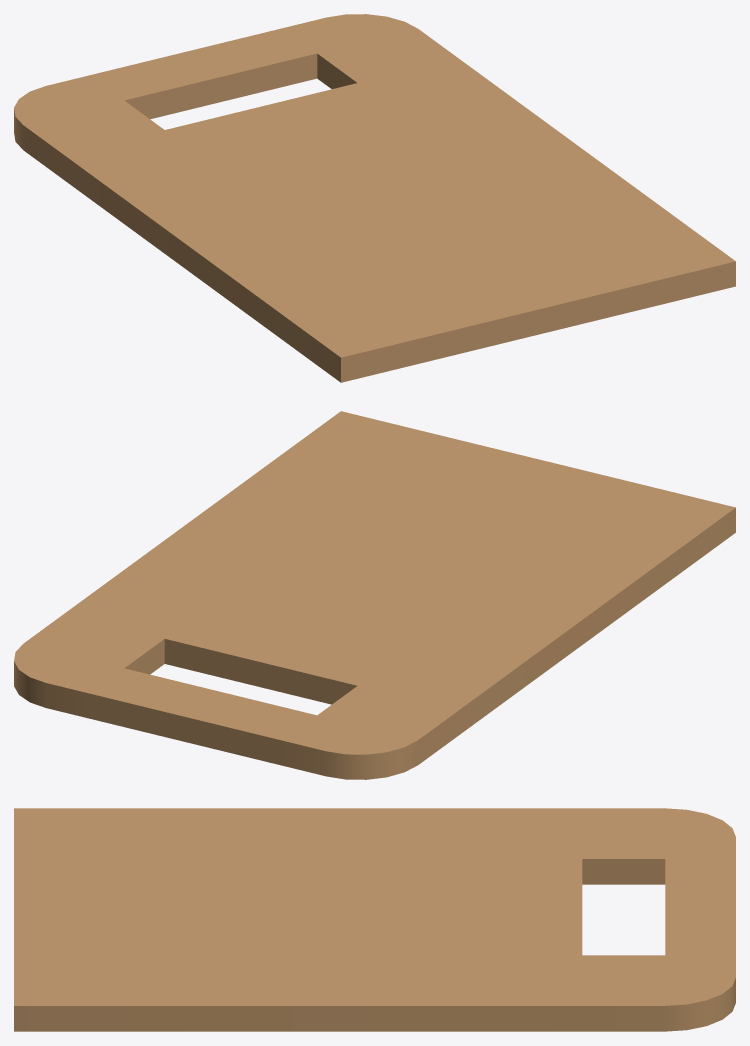
The model's file is chopping_board_1.obj.
The picture shows the model from 3 angles, top to bottom: view 1: azimuth 30°, elevation 25°; view 2: azimuth 150°, elevation 25°; view 3: azimuth 270°, elevation 25°; orthographic projection. The views are drawn at different scales.
Visible parts, largest first — view 1: chopping_board_1.001; view 2: chopping_board_1.001; view 3: chopping_board_1.001.
Boxes of the visible parts, x1,y1,x2,y2 form: chopping_board_1.001: [14, 14, 735, 382]; chopping_board_1.001: [14, 411, 735, 779]; chopping_board_1.001: [14, 808, 735, 1031].
Size of the model in its own units: 0.1517 by 0.00922 by 0.2343.
